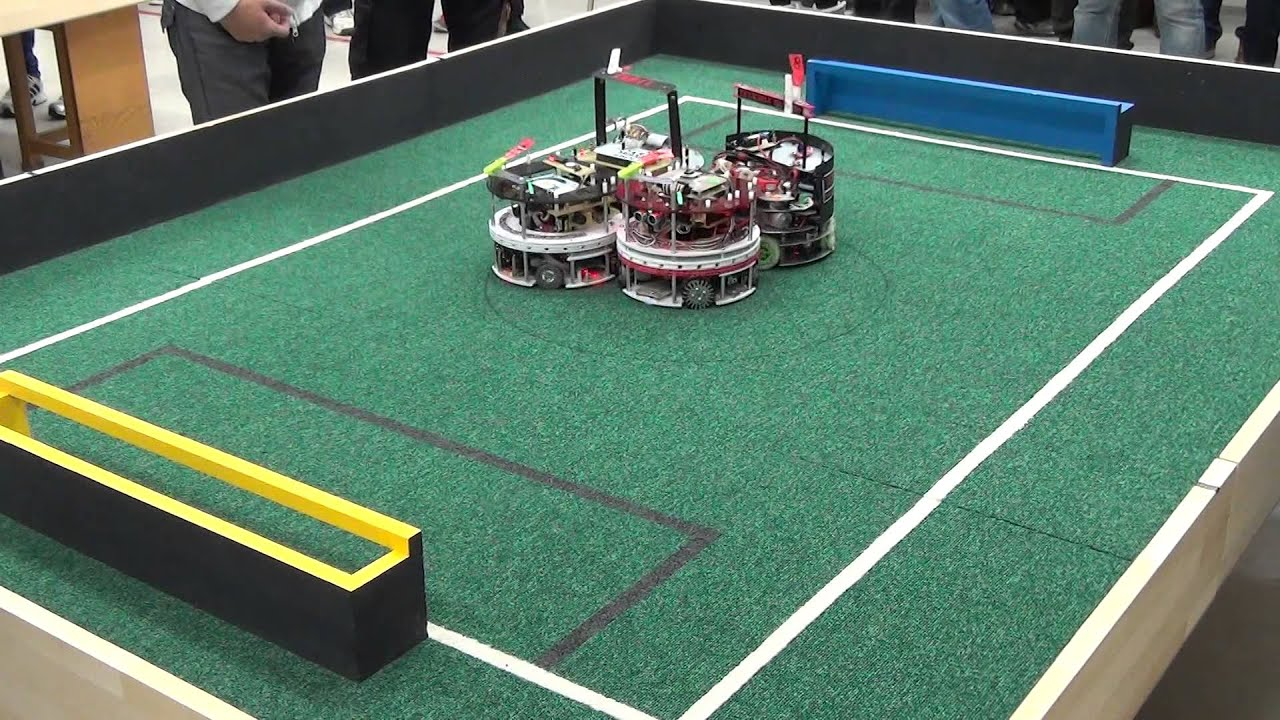Goal: (800, 55, 1136, 167)
Robot: (618, 145, 756, 313), (482, 126, 618, 295), (718, 81, 840, 269)
